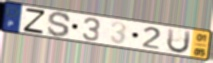2: (141, 27, 163, 51)
3: (81, 17, 102, 42), (109, 21, 129, 45)
S: (46, 11, 73, 38)
U: (165, 27, 193, 55)
Z: (22, 7, 47, 35)
